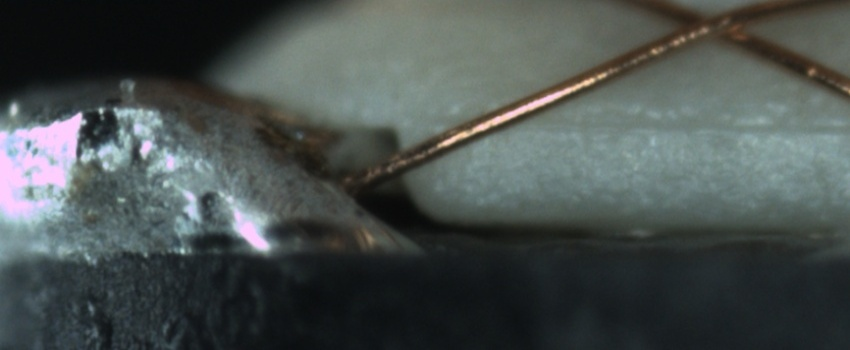CL: (650, 1, 767, 48)
DL: (465, 96, 850, 160)
